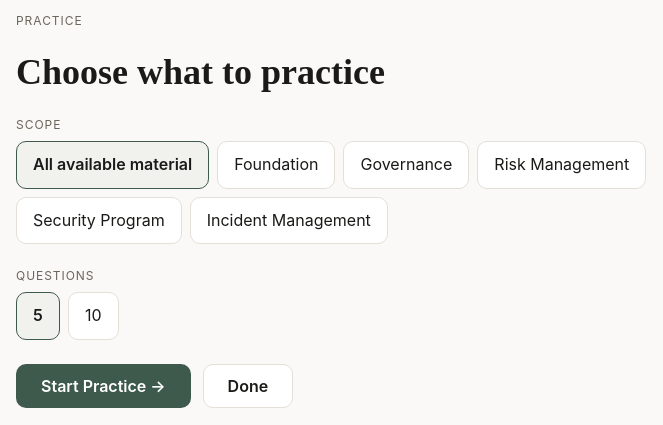
PracticeScreen › disables a question-count option the current scope cannot truthfully fulfill
The width and height of the screenshot is (663, 425).
Click the radio button labelled "Foundation": {"x": 276, "y": 165} [217,141,336,189]
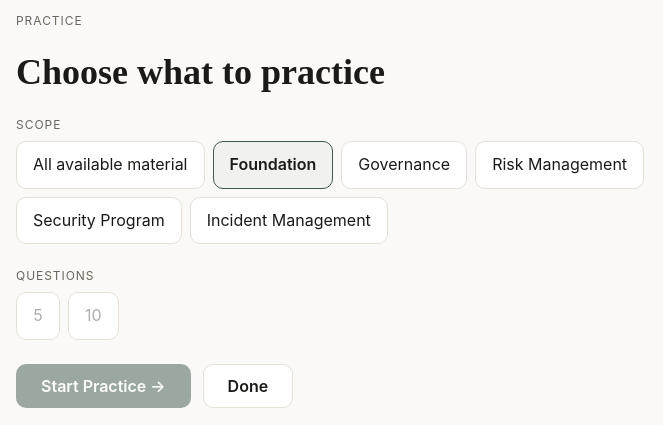
Check: the radio button labelled "5" is disabled, box [16,292,60,340]
Check: the radio button labelled "10" is disabled, box [68,292,119,340]
Check: the button "Start Practice →" is disabled, box [16,364,191,408]
